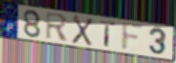3: (147, 27, 169, 57)
8: (23, 9, 42, 39)
F: (120, 22, 146, 53)
R: (45, 11, 70, 43)
T: (99, 19, 117, 49)
X: (71, 14, 95, 48)
